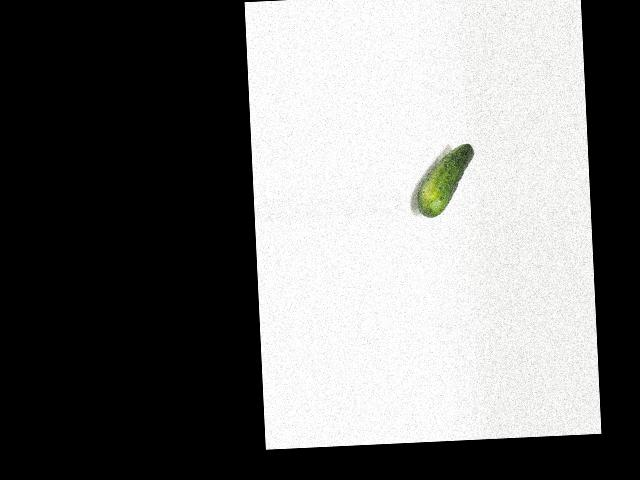cucumber: (415, 143, 476, 217)
